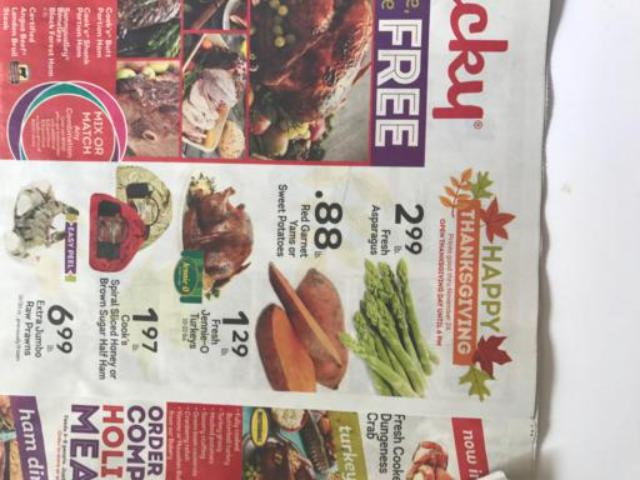cardboard paper: (0, 0, 550, 480)
